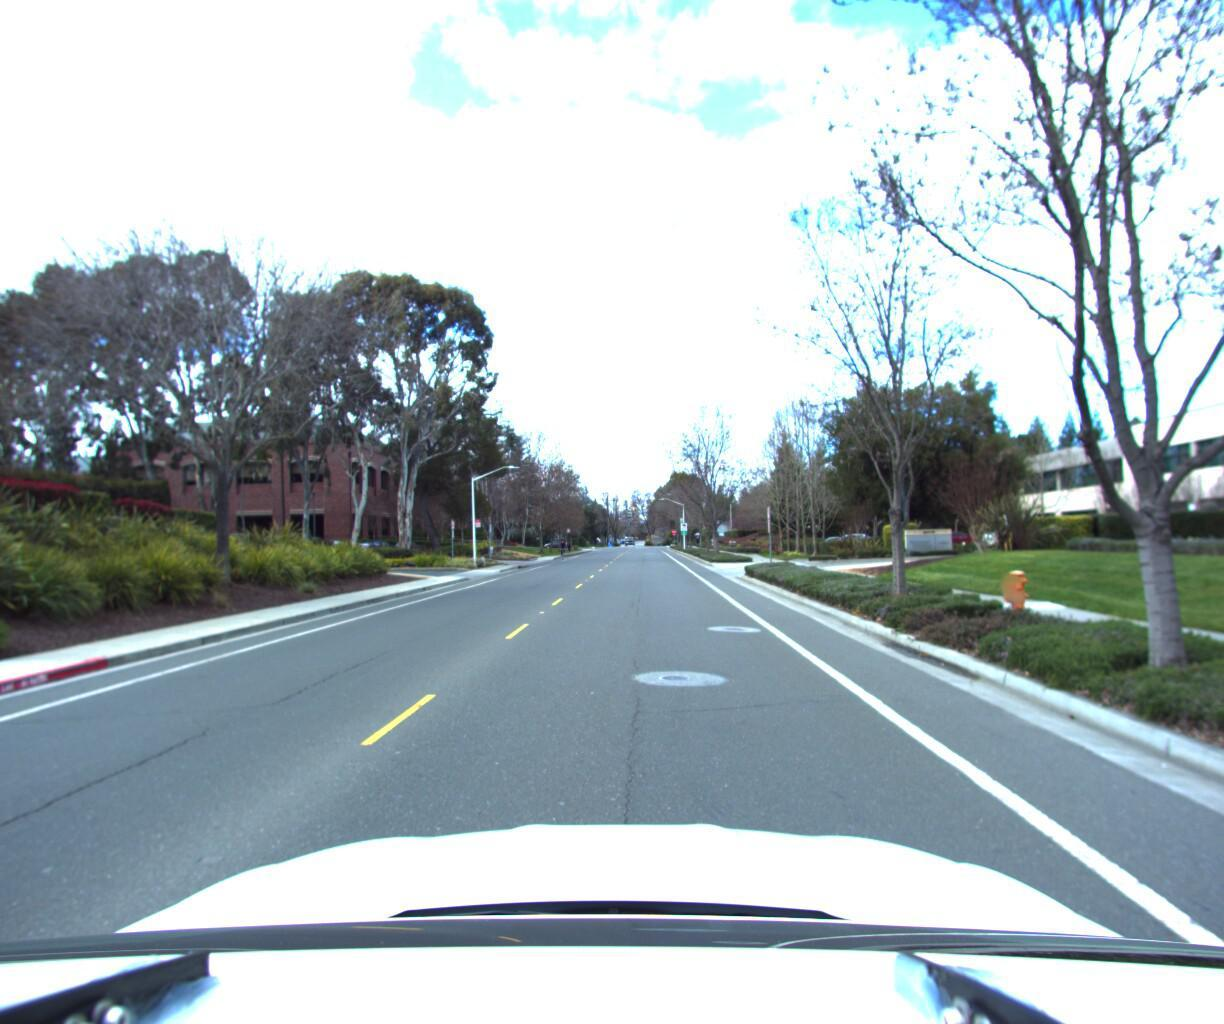bicycle: (556, 537, 569, 560)
